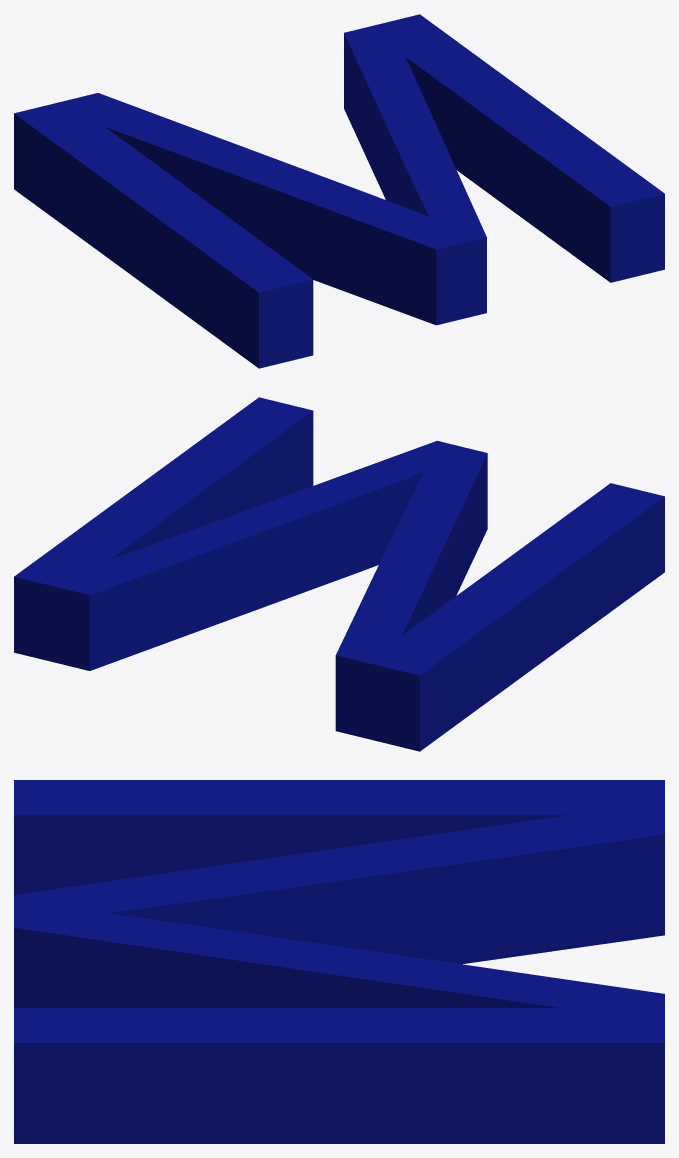
The picture shows the model from 3 angles, top to bottom: view 1: azimuth 30°, elevation 25°; view 2: azimuth 150°, elevation 25°; view 3: azimuth 270°, elevation 25°; orthographic projection. The views are drawn at different scales.
Parts seen in each view (by area): view 1: TextPlus013; view 2: TextPlus013; view 3: TextPlus013.
Part boxes in pixels (<box>): TextPlus013: <box>14,14,664,368</box>; TextPlus013: <box>14,397,664,751</box>; TextPlus013: <box>14,780,664,1143</box>.
Bounding box in the file's own units: 24.52 × 4.38 × 25.64.
